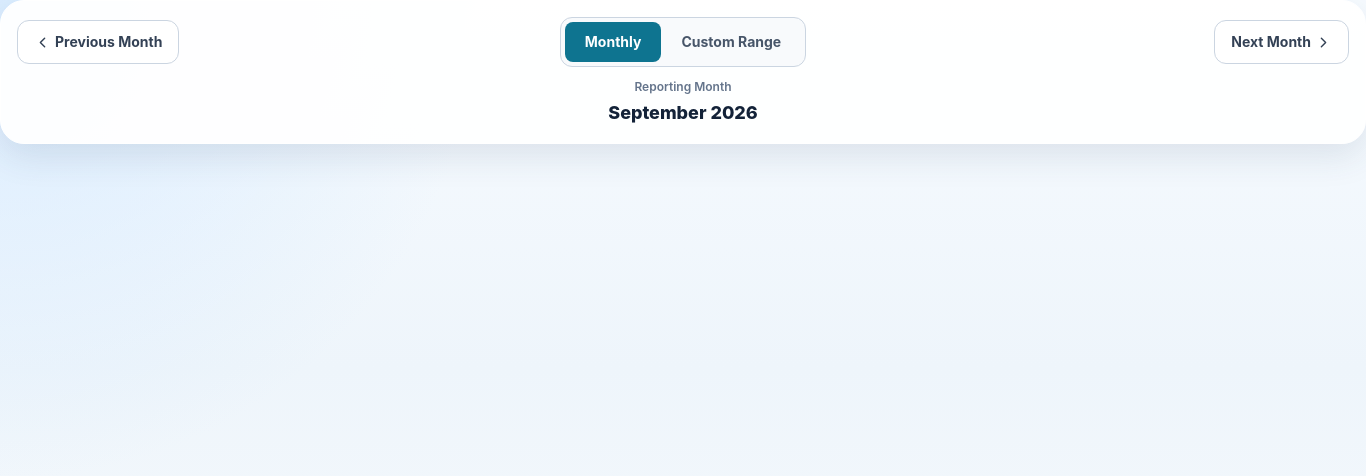
Scenario: switches from monthly navigation to a validated custom range form
This screenshot has width=1366, height=476.
Click the button "Custom Range" at {"x": 731, "y": 42}, box [661,22,801,62]
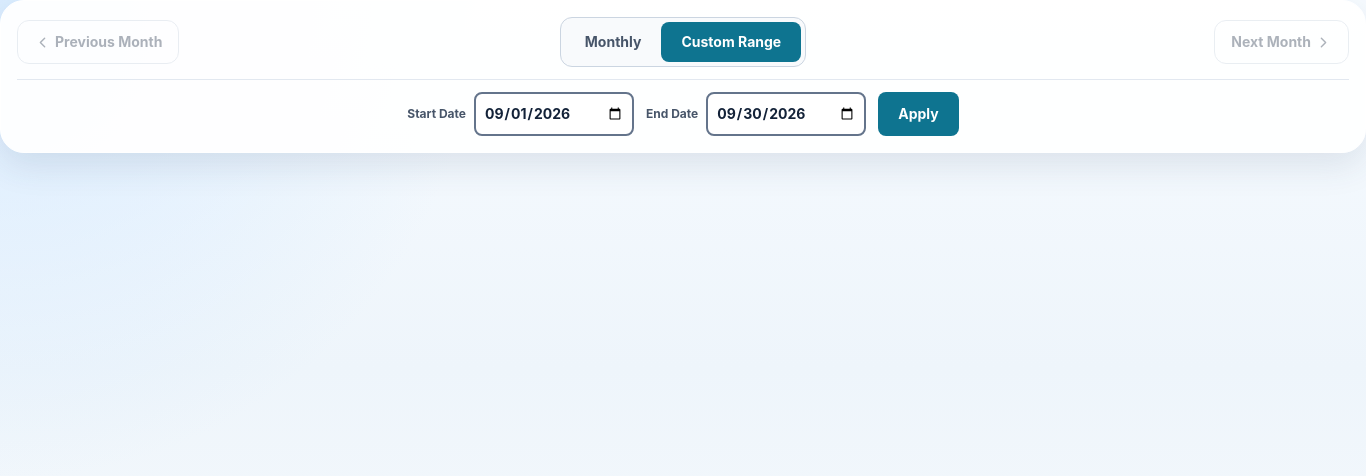
Type "2026-10-01" into the date field labelled "Start Date" at {"x": 554, "y": 114}, box [474,92,634,136]
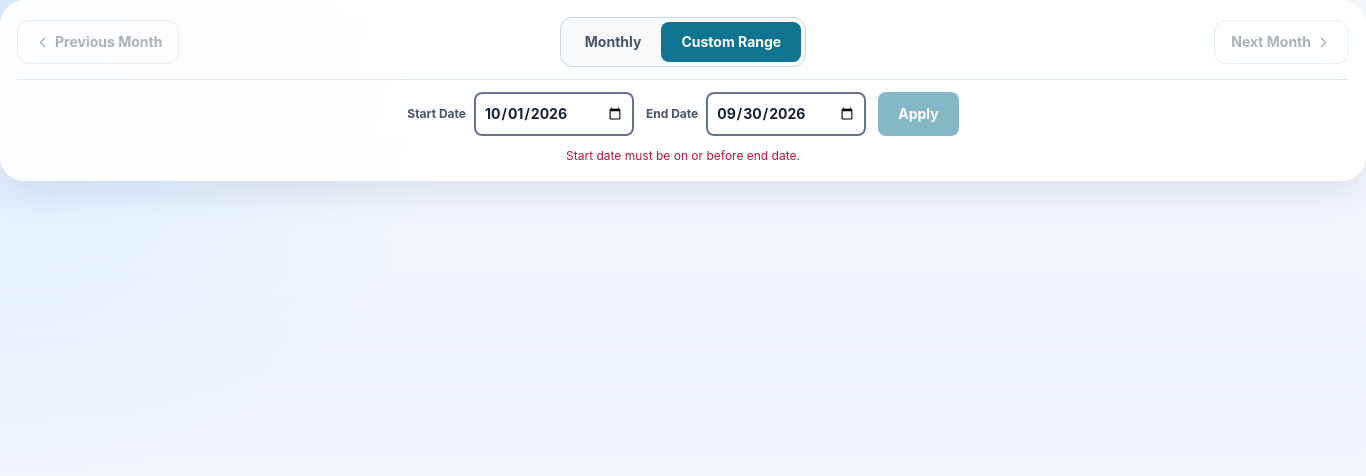
Check: the button "Apply" is disabled, box [878,92,959,136]
Type "2026-10-01" into the date field labelled "End Date" at {"x": 786, "y": 114}, box [706,92,866,136]
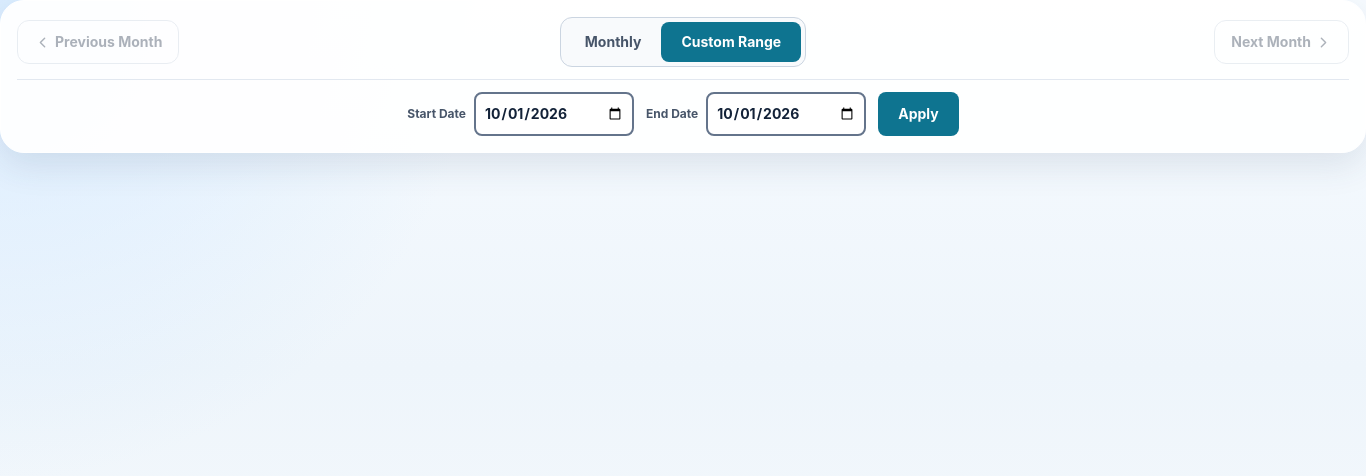
Check: the button "Apply" is enabled, box [878,92,959,136]
